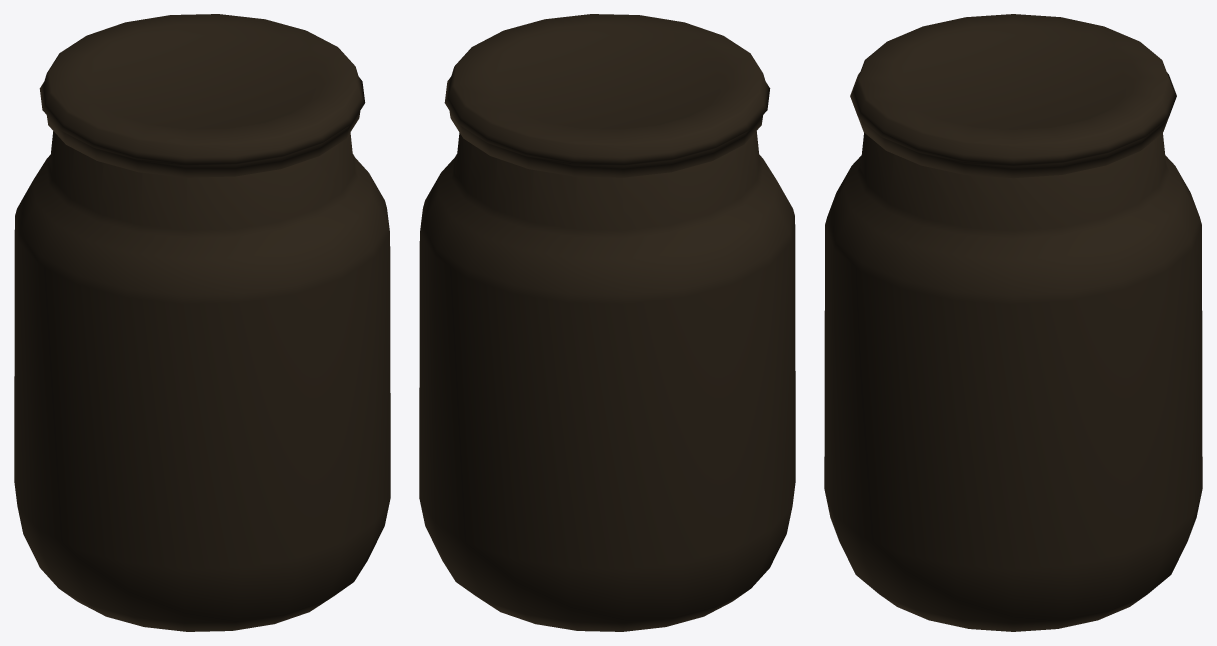
The model's file is jar3.fbx.
3 views of the same model, side by side, from view 1: azimuth 30°, elevation 25°; view 2: azimuth 150°, elevation 25°; view 3: azimuth 270°, elevation 25° (orthographic).
Visible parts, largest first — view 1: jar3; view 2: jar3; view 3: jar3.
Part boxes in pixels (x1,y1,x2,y2): jar3: (14,14,390,631); jar3: (419,14,795,631); jar3: (824,14,1202,631).
Bounding box in the file's own units: 0.065 × 0.0937 × 0.065.
